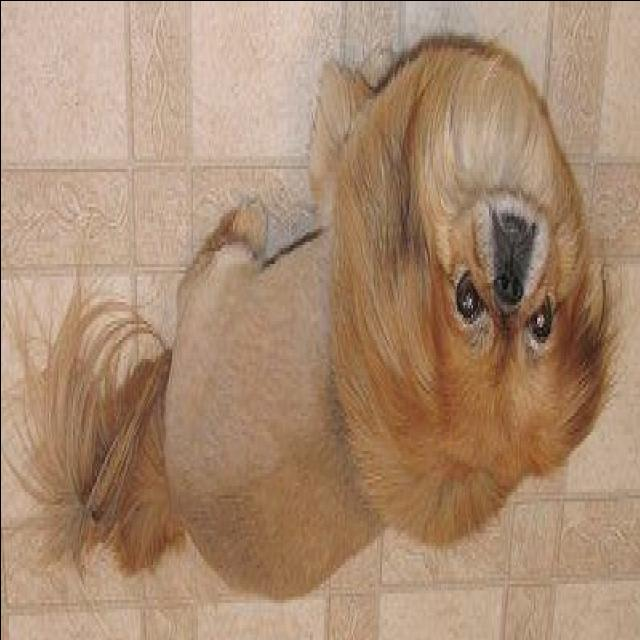pekinese: (14, 12, 626, 612)
